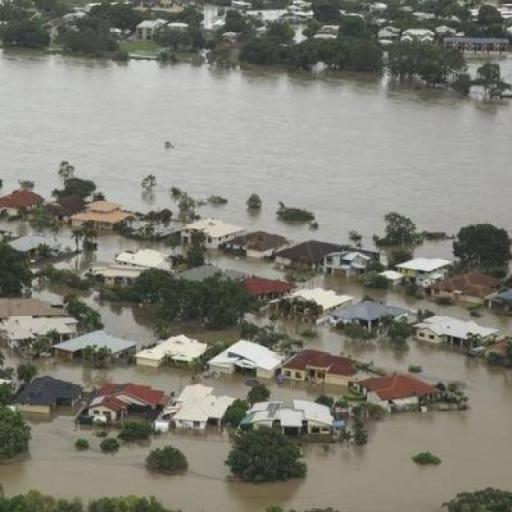flood: (0, 50, 512, 248), (0, 320, 512, 512), (299, 274, 512, 336), (32, 282, 157, 347), (57, 233, 167, 272), (207, 250, 288, 280), (169, 325, 240, 345), (469, 57, 512, 80), (414, 240, 454, 260), (41, 226, 74, 250), (0, 220, 38, 237), (250, 313, 269, 325)
house: (86, 380, 176, 434), (280, 348, 360, 392), (248, 398, 334, 438), (56, 327, 138, 368), (221, 337, 284, 388), (368, 372, 432, 416), (172, 386, 228, 434), (9, 376, 73, 414), (137, 334, 205, 368), (420, 316, 472, 354), (90, 254, 140, 291), (337, 302, 384, 334), (188, 221, 233, 254), (401, 259, 447, 291), (238, 230, 283, 262), (280, 241, 322, 275), (80, 203, 124, 233), (322, 250, 367, 278), (0, 192, 43, 220), (244, 276, 284, 306), (136, 20, 156, 42)
